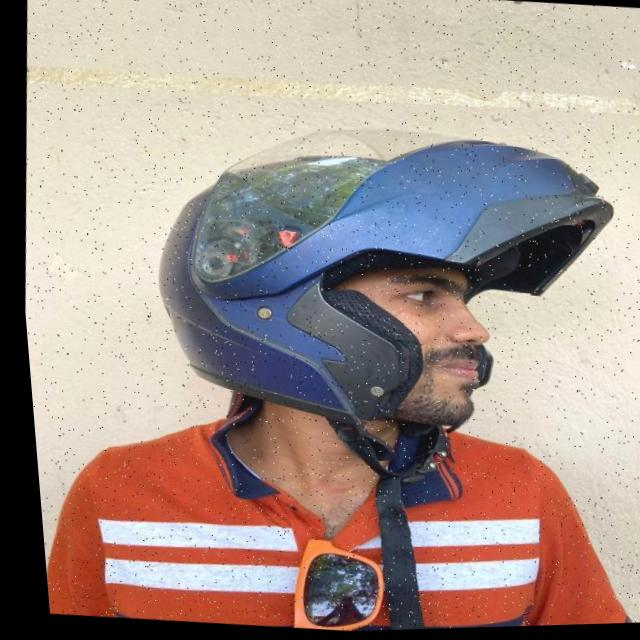helmet: (114, 108, 640, 638)
